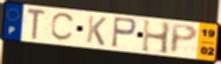C: (49, 12, 77, 43)
H: (140, 18, 172, 56)
K: (85, 14, 109, 47)
P: (170, 23, 200, 56), (110, 16, 138, 50)
T: (25, 7, 47, 41)
